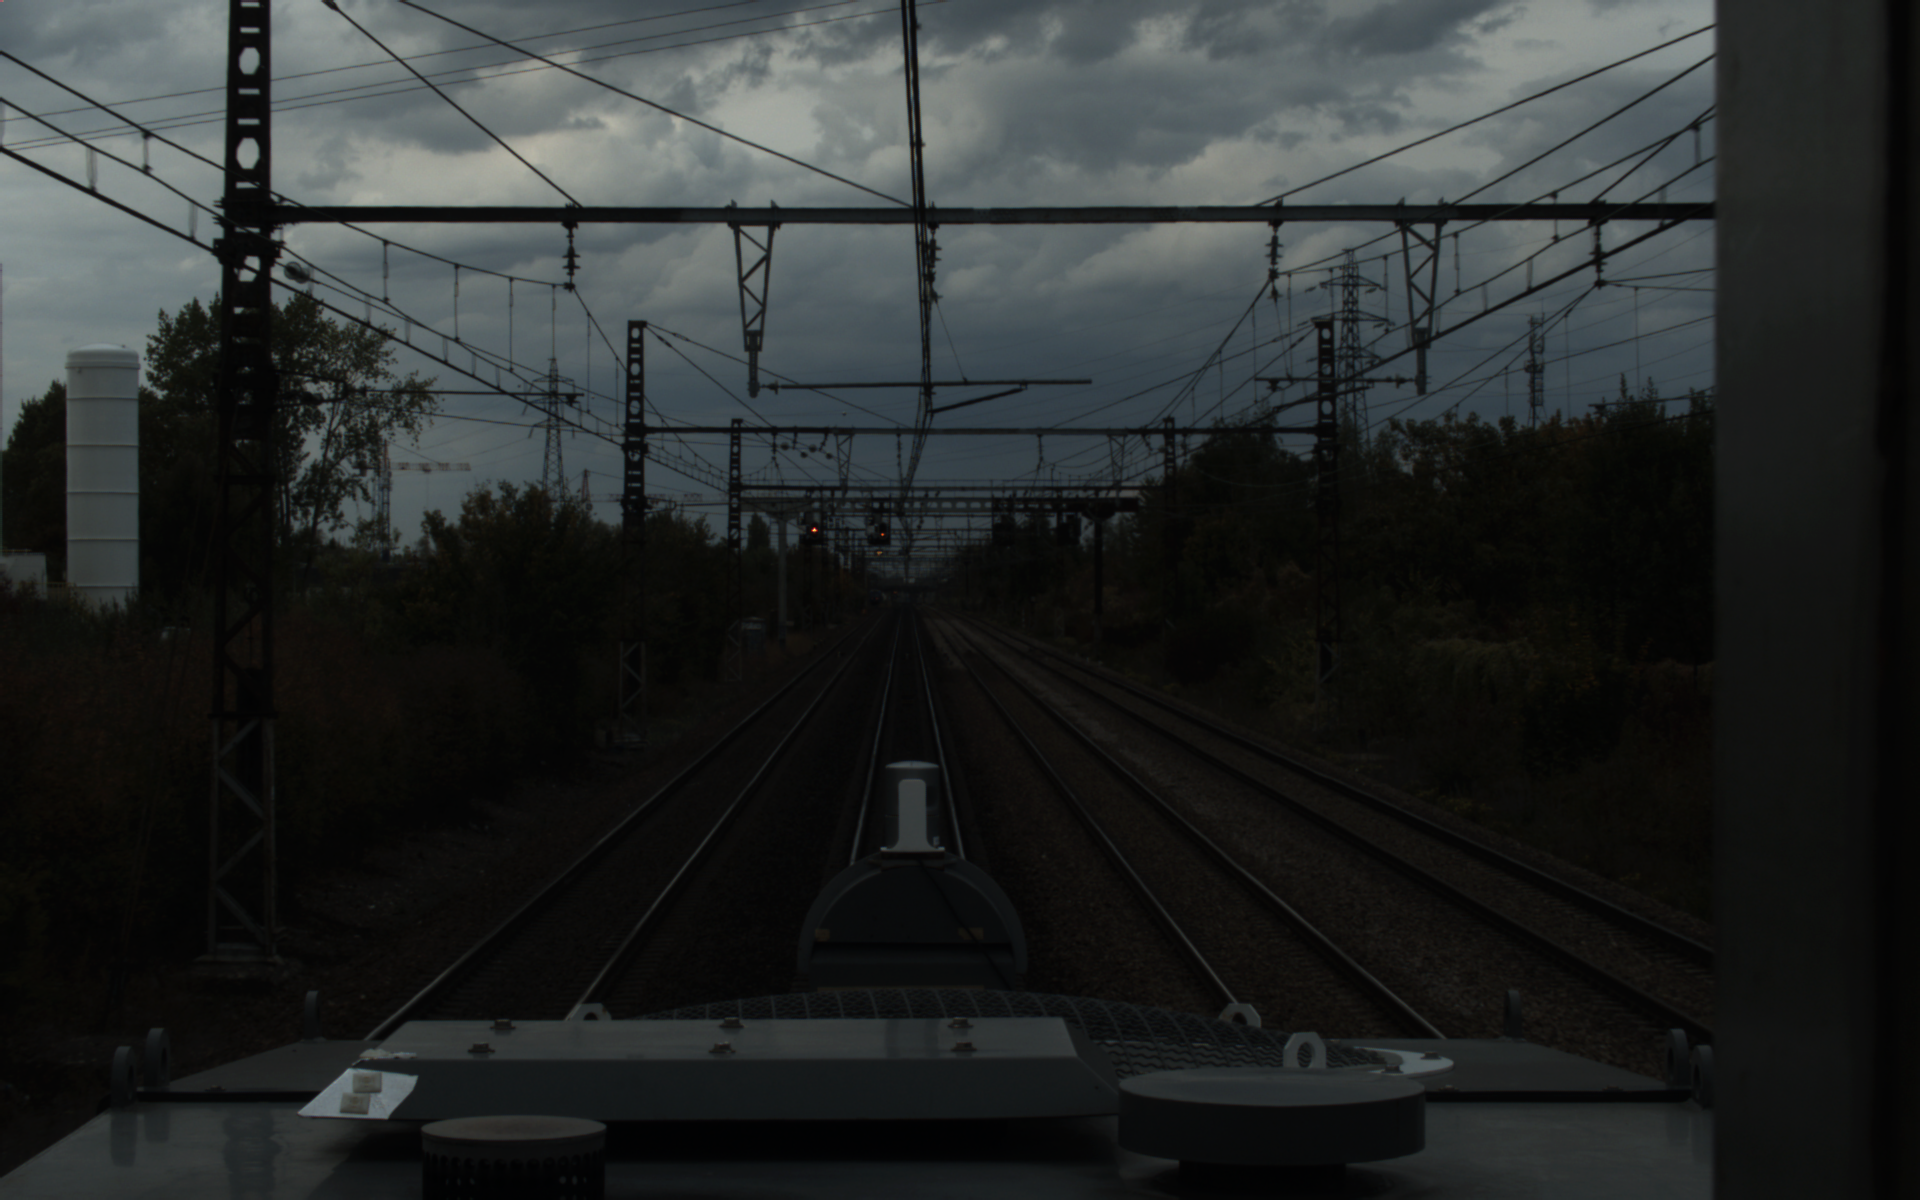Blinking: (876, 520, 887, 539)
Fixed: (809, 520, 820, 541)
